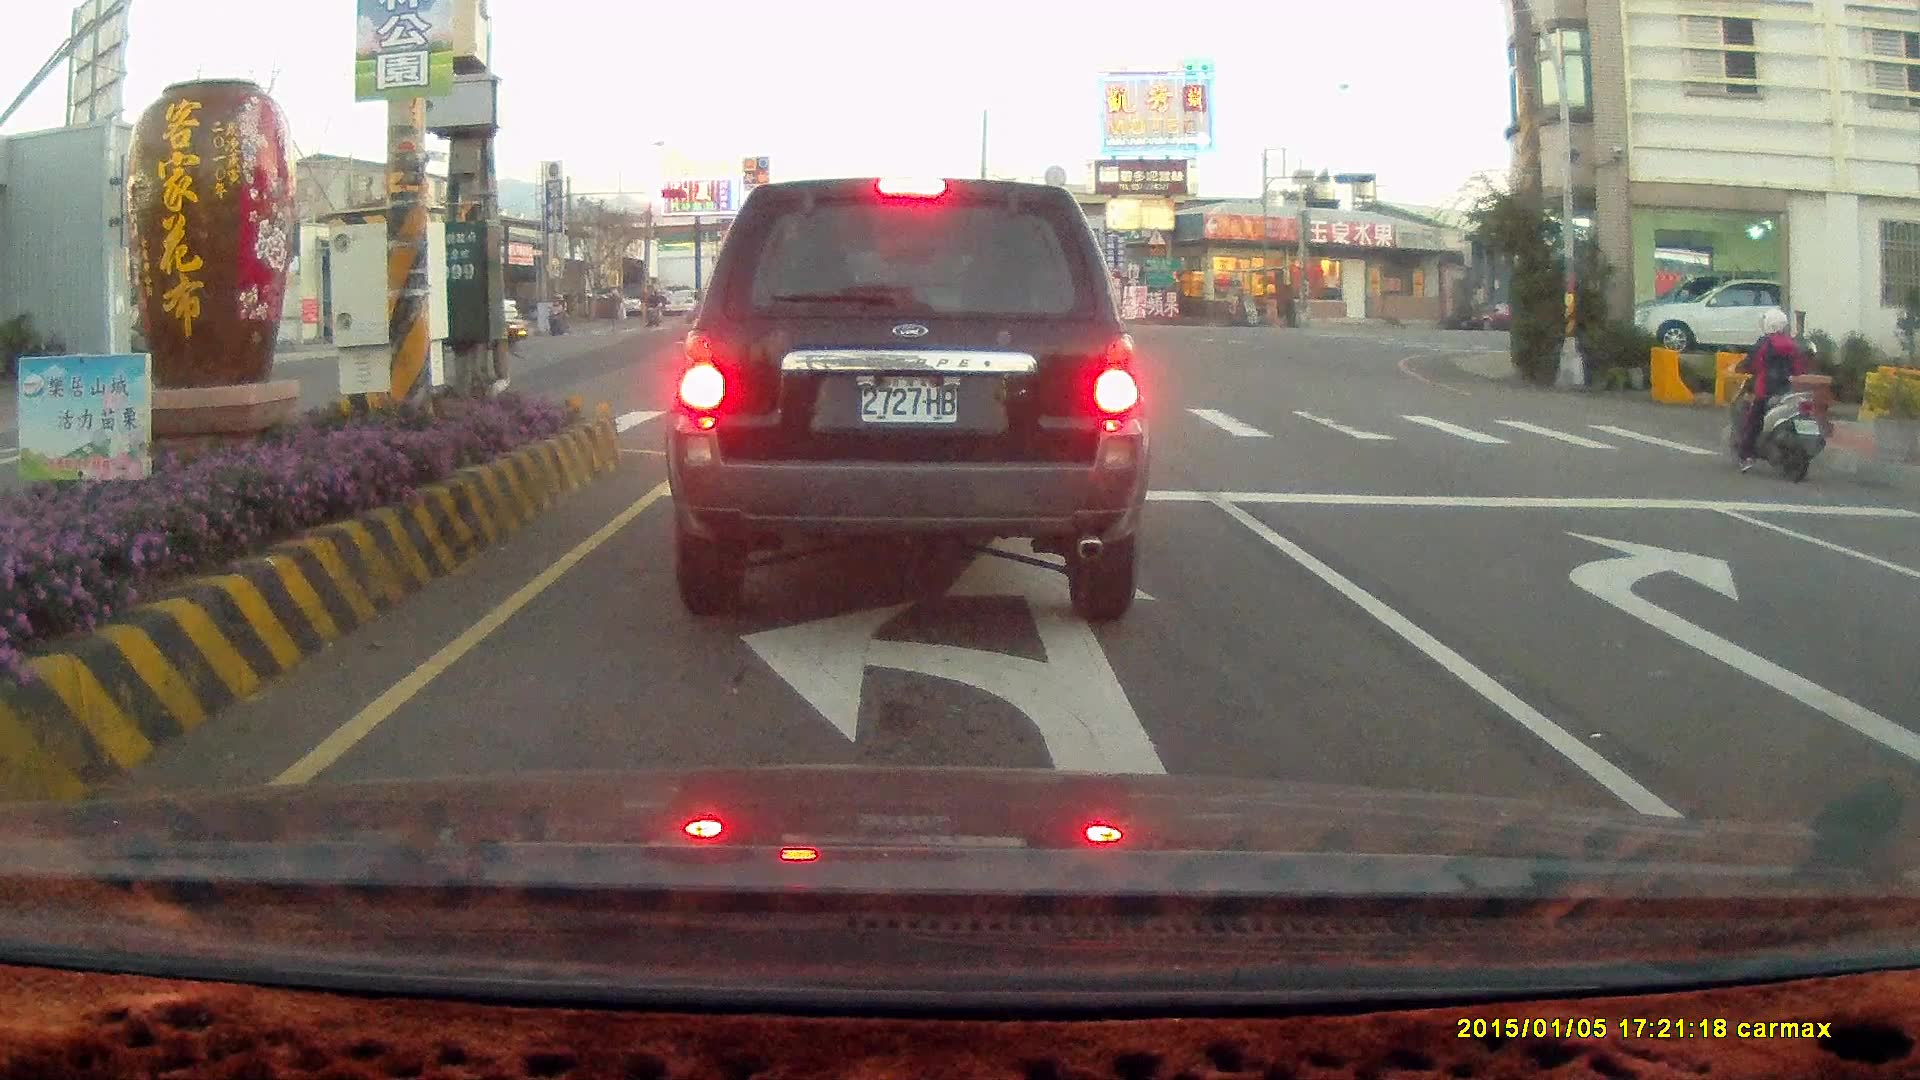rider: (1723, 307, 1823, 479), (545, 292, 568, 332), (640, 288, 661, 325)
vehicle: (665, 176, 1152, 624), (684, 256, 901, 373), (1621, 273, 1825, 354), (921, 256, 1078, 358), (1642, 275, 1784, 356), (1896, 493, 1920, 836), (1883, 528, 1920, 690)
